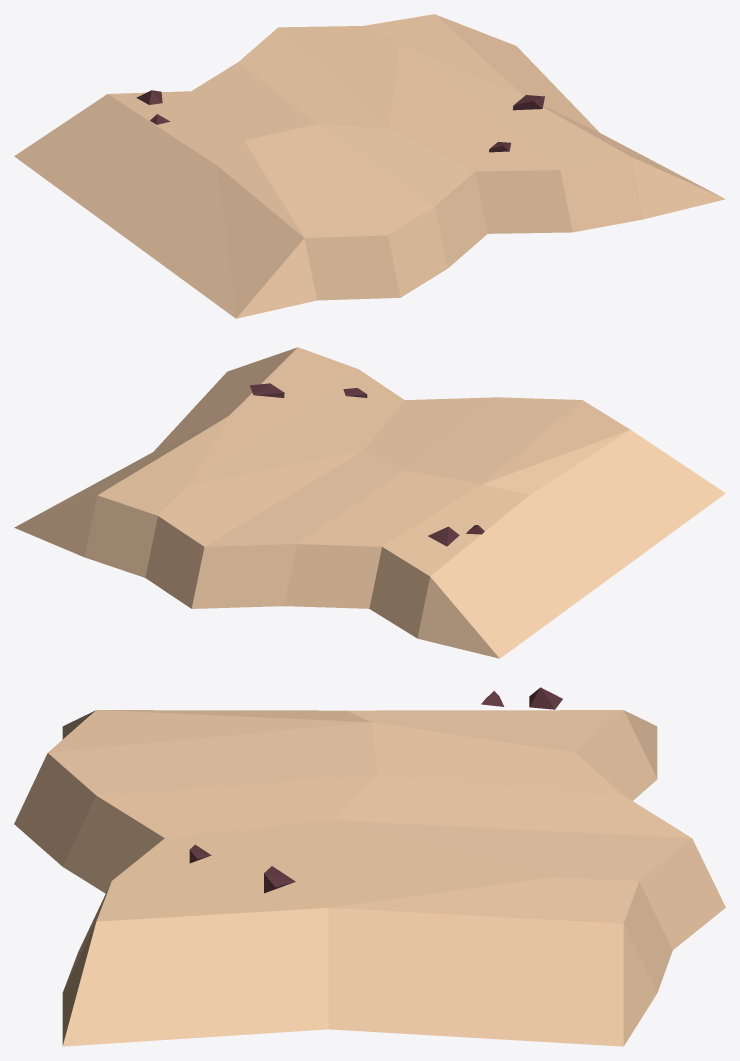
Rendered from empire-road-short-empire.glb.
3 views of the same model, one above another, from view 1: azimuth 30°, elevation 25°; view 2: azimuth 150°, elevation 25°; view 3: azimuth 270°, elevation 25° (orthographic). The views are drawn at different scales.
Parts seen in each view (by area): view 1: SM_Road_Short_Empire; view 2: SM_Road_Short_Empire; view 3: SM_Road_Short_Empire.
Part boxes in pixels (box(x1,y1,x2,y2)): SM_Road_Short_Empire: box(14, 14, 725, 318); SM_Road_Short_Empire: box(14, 347, 725, 658); SM_Road_Short_Empire: box(14, 687, 725, 1046).
Size of the model in its own units: 4.49 by 0.671 by 4.22.
